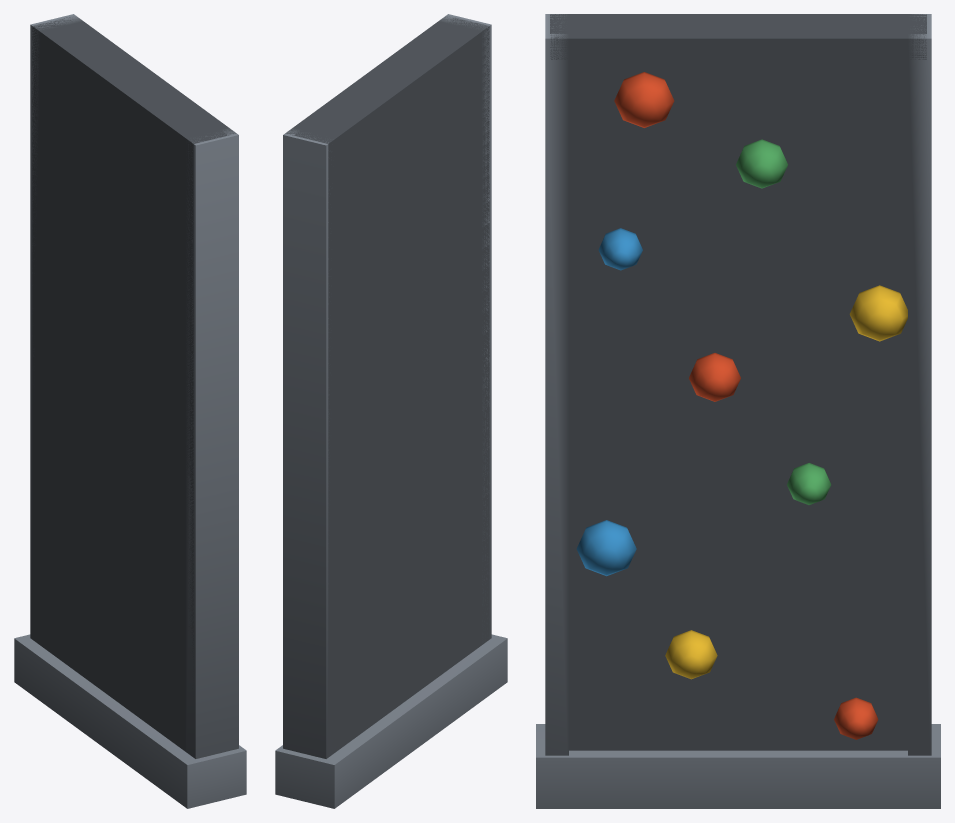
File: climbing-wall.glb
3 renders of one model, left to right at view 1: azimuth 30°, elevation 25°; view 2: azimuth 150°, elevation 25°; view 3: azimuth 270°, elevation 25°, orthographic. The views are drawn at different scales.
Parts seen in each view (by area): view 1: wall; view 2: wall; view 3: wall, holdRed, holdYellow, holdBlue, holdGreen.
Boxes of the visible parts, x1,y1,x2,y2 form: wall: [14, 14, 246, 808]; wall: [275, 14, 507, 808]; wall: [536, 14, 940, 808]; holdRed: [614, 72, 878, 739]; holdYellow: [665, 285, 907, 679]; holdBlue: [576, 228, 642, 576]; holdGreen: [736, 139, 831, 504].
Size of the model in its own units: 0.2 by 1.8 by 0.86.
